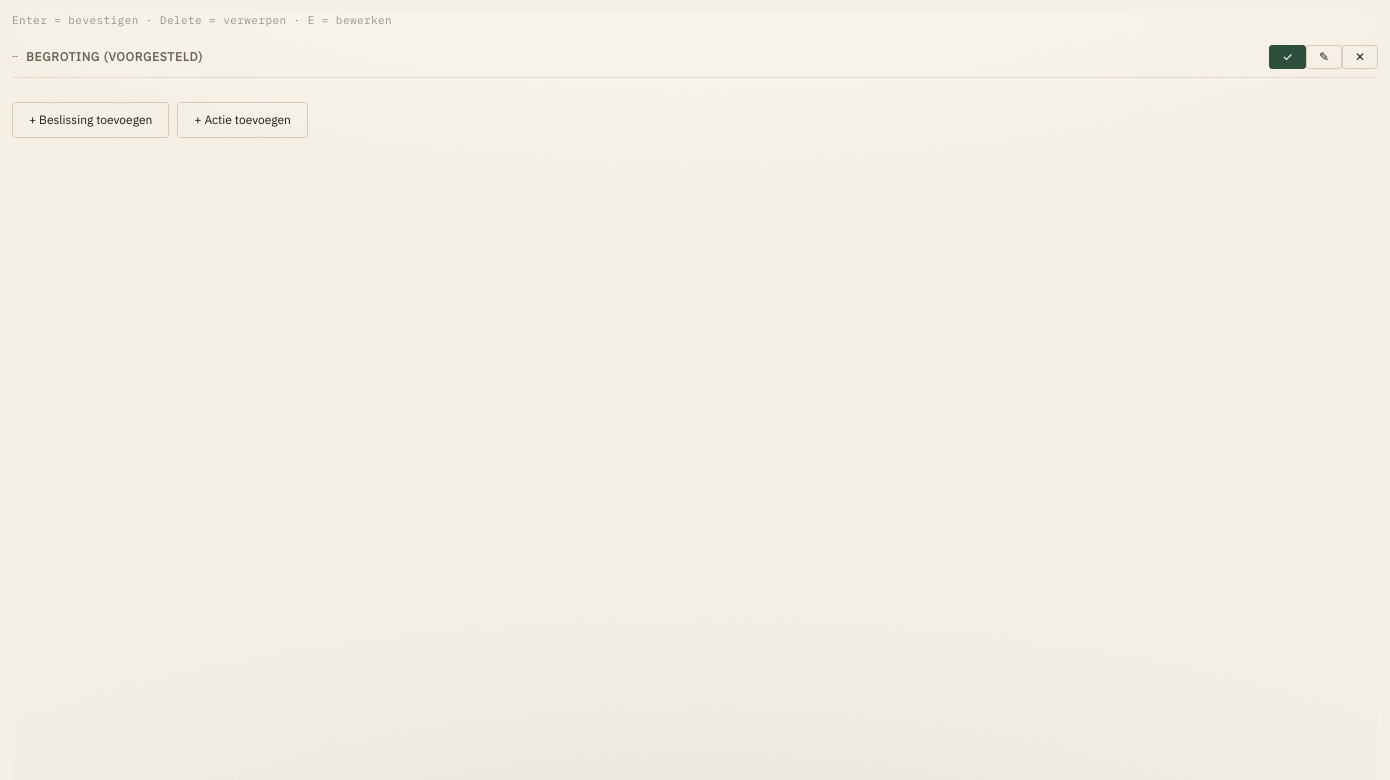
Test: LiveItemsPanel — agenda grooming › dismisses a Proposed agenda item, removing it from the list
Click the button named "agendapunt verwijderen" at (1360, 56), box [1342,44,1378,68]
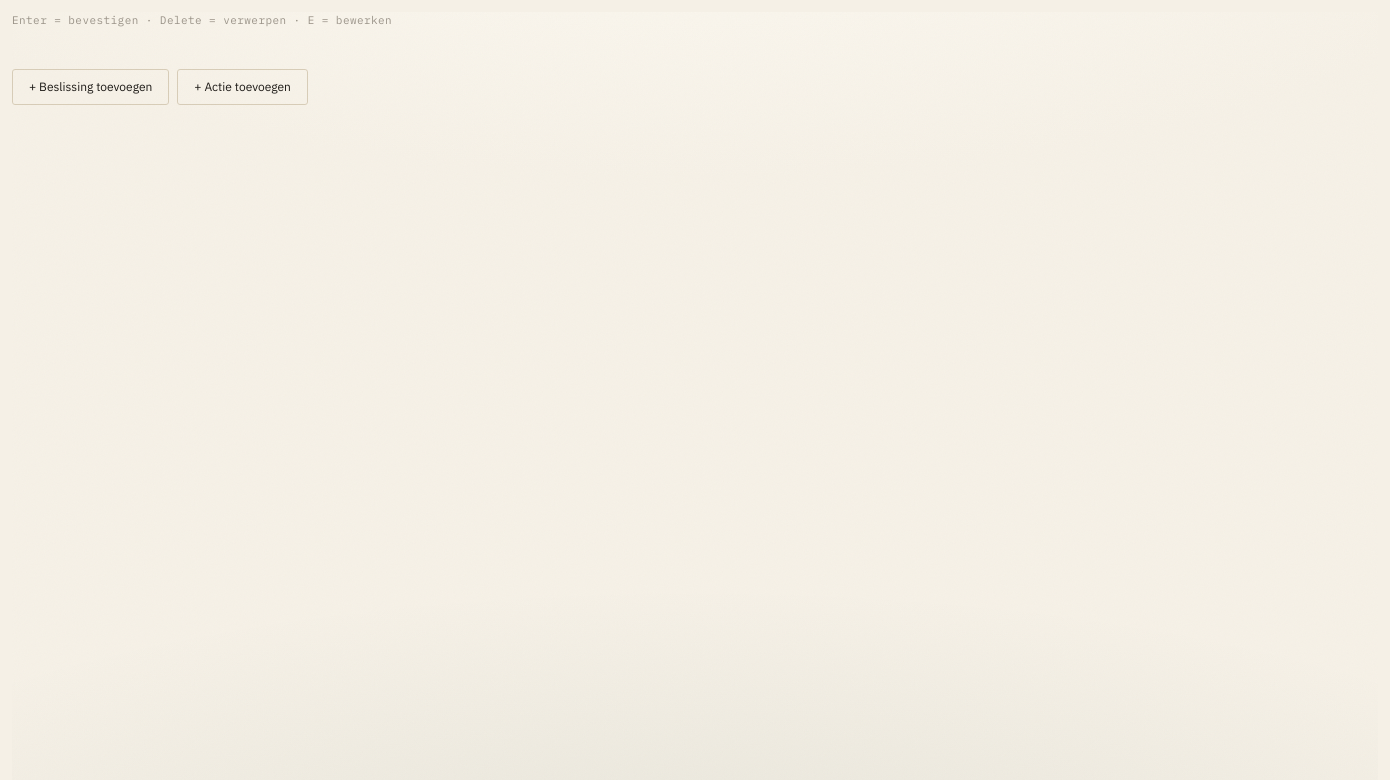
Expected: the element with test id "proposed-agenda-agenda-prop" is gone
